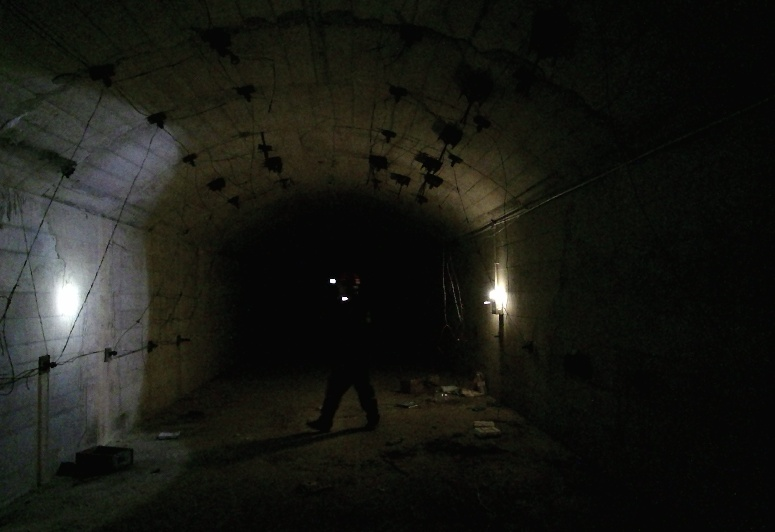person: (359, 274, 423, 434)
